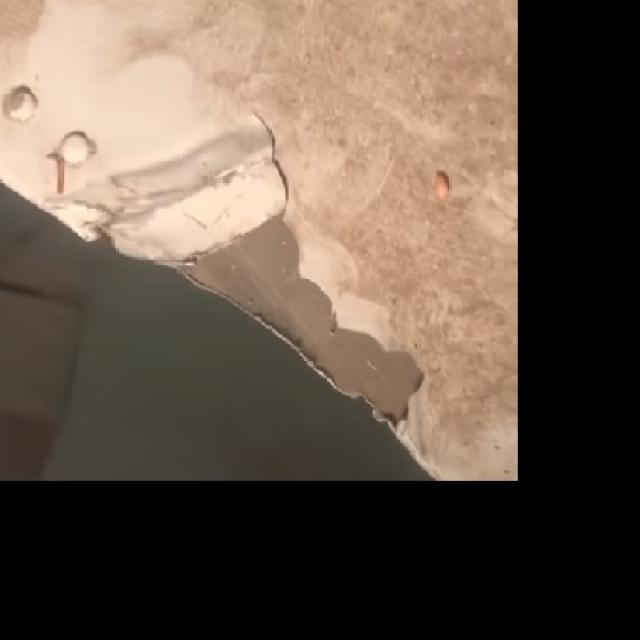crack: (248, 113, 316, 219)
